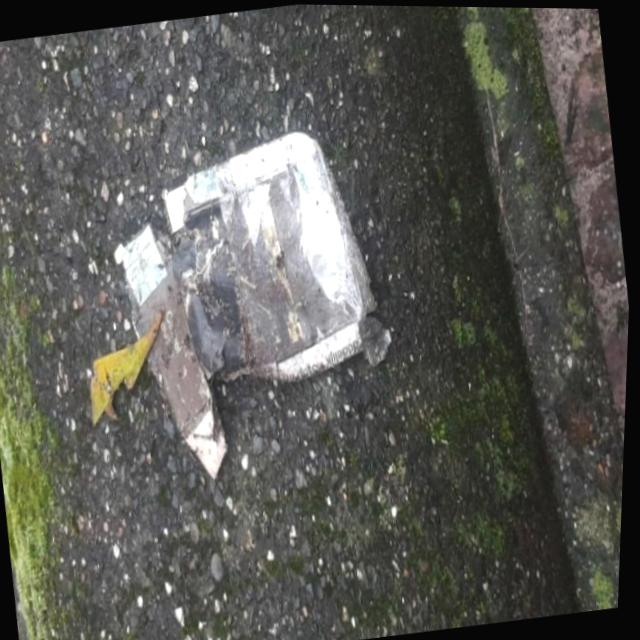Paper: (97, 114, 422, 497)
